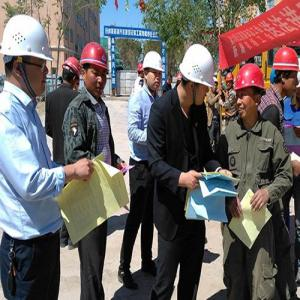none: (167, 74, 174, 86)
red: (234, 63, 265, 120), (81, 41, 108, 100), (274, 46, 300, 101), (62, 56, 81, 89), (226, 71, 235, 90)
white: (3, 13, 51, 101), (178, 42, 215, 108), (143, 51, 164, 94), (213, 77, 219, 94)
